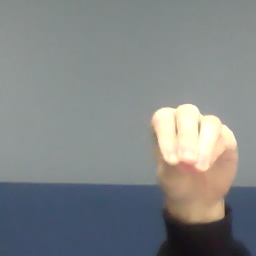M: (148, 101, 238, 202)
